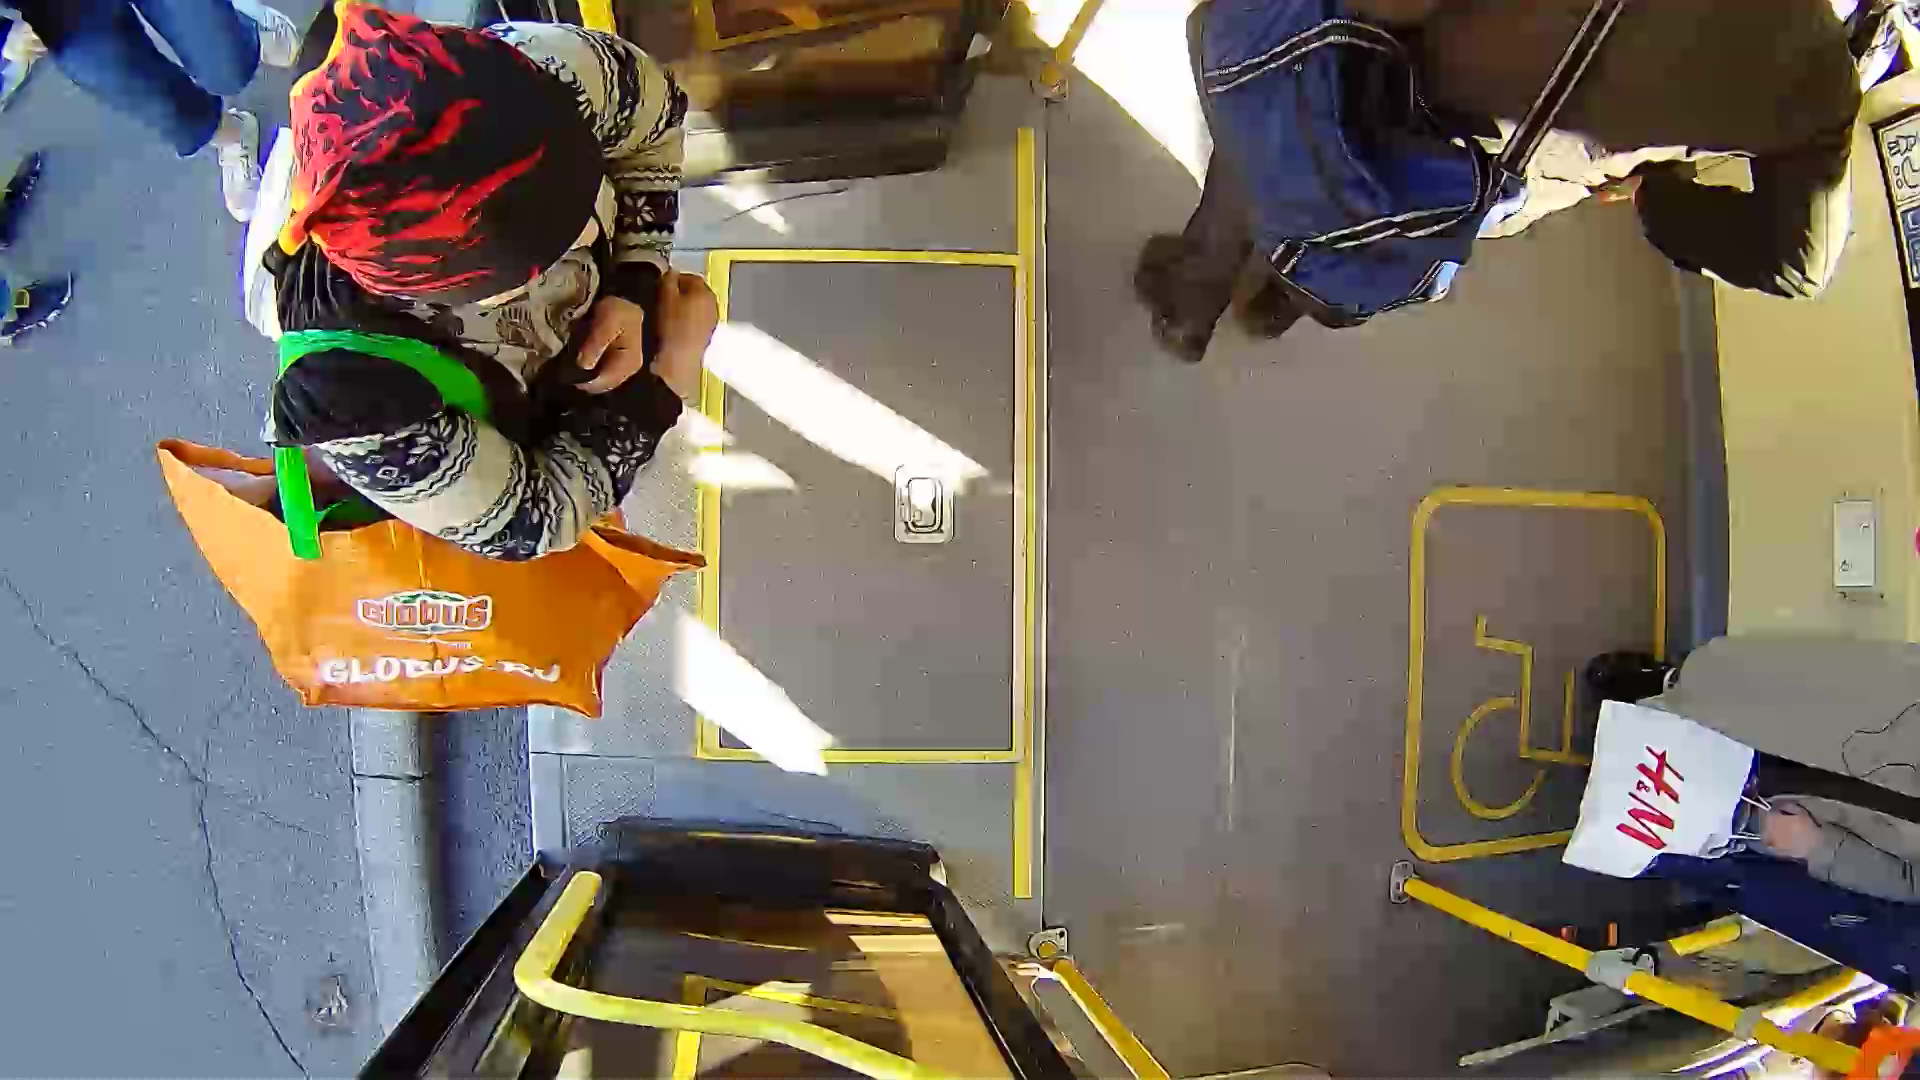person: (121, 29, 833, 679)
